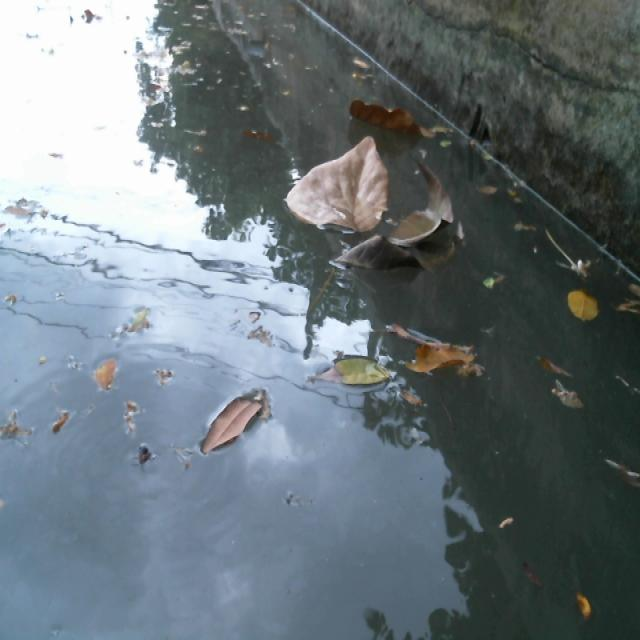Big-leaf: (293, 128, 391, 248), (368, 163, 462, 267), (390, 316, 486, 389), (342, 79, 432, 144)
Small-leaf: (185, 378, 271, 475), (309, 353, 399, 404), (544, 353, 587, 422), (552, 283, 612, 332), (91, 351, 117, 388), (621, 275, 640, 320)
